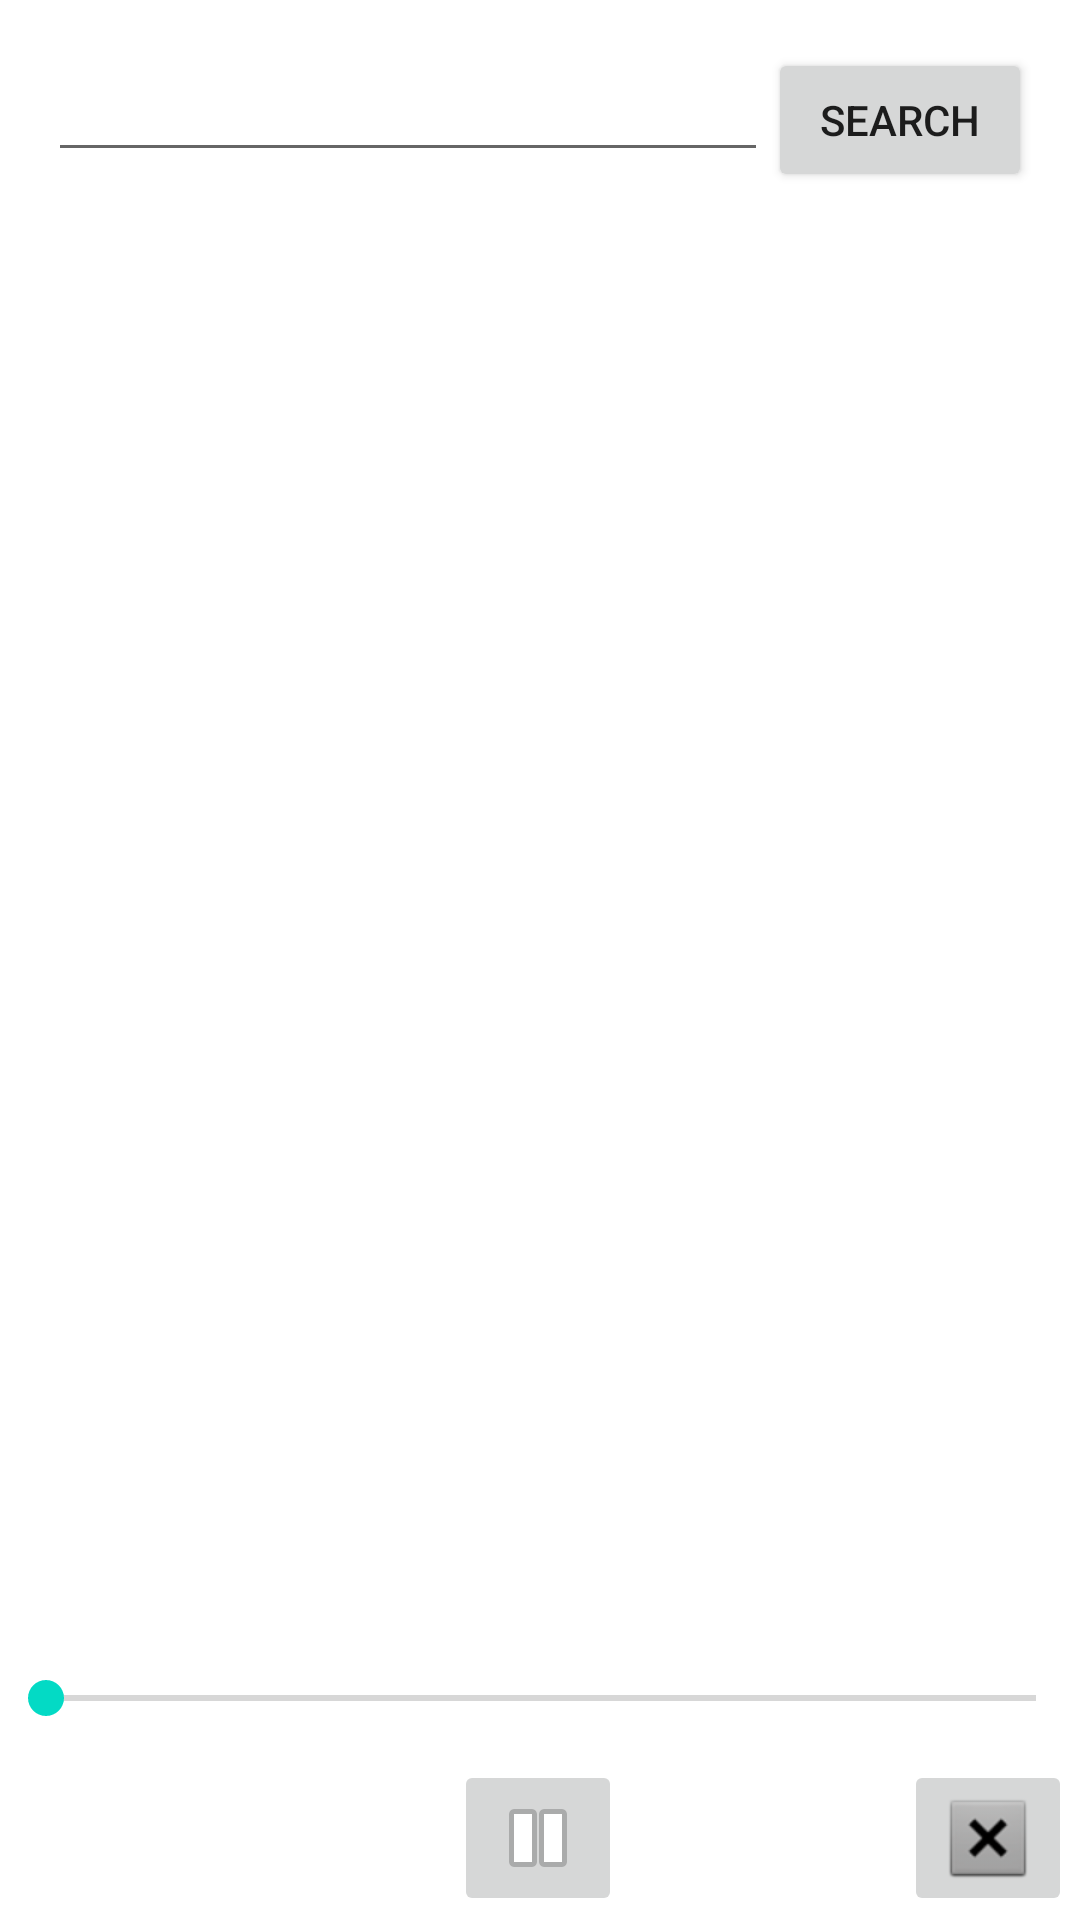

Screen size 1080 x 1920. Icon name, then its box in pixels as detection(x1, y1, x2, y2):
pause: detection(466, 1778, 610, 1898)
